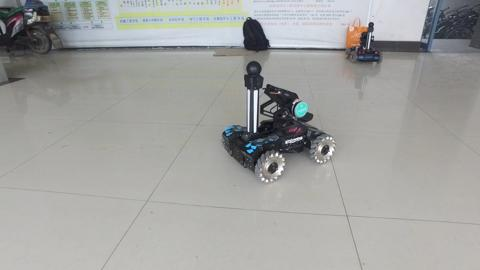bag: (239, 14, 272, 53), (345, 16, 370, 50)
chariot: (220, 60, 337, 184), (343, 21, 383, 63)
